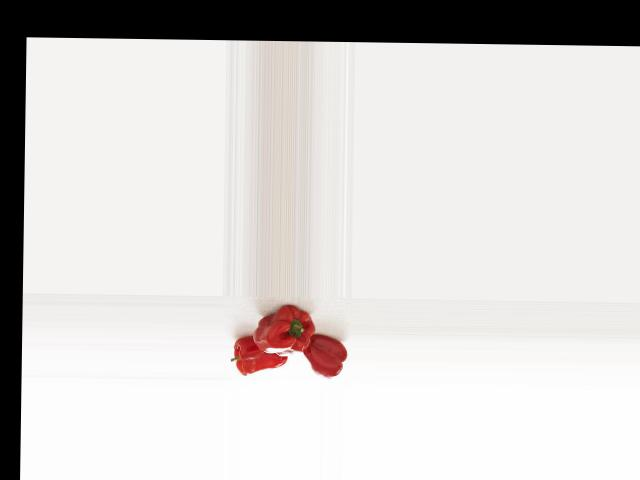bell_pepper: (305, 332, 350, 378)
